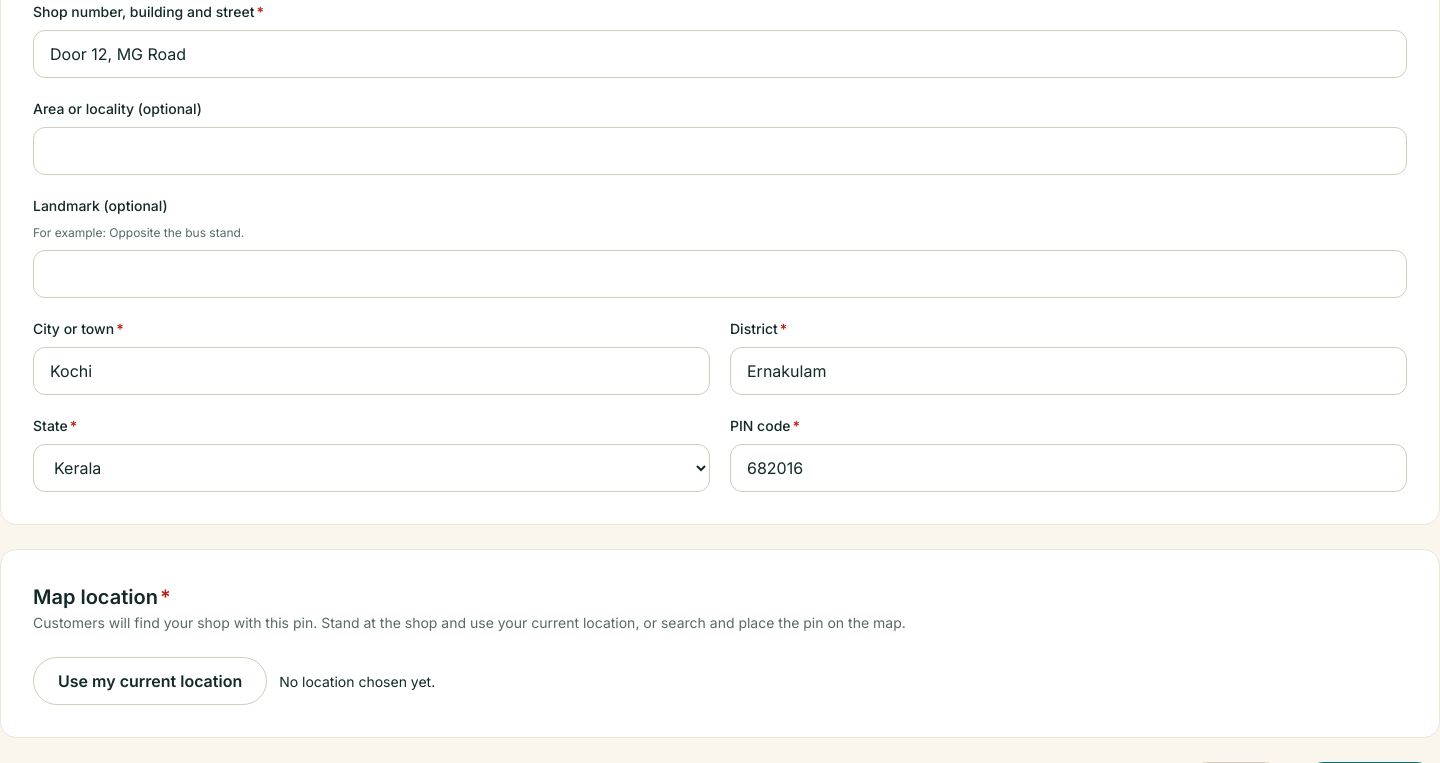
Test: ShopProfileForm › refuses a device location too rough for a shop pin
The image size is (1440, 763).
(page scrolled)
Click the button "Use my current location" at point(150, 681), box x1=33 y1=657 x2=267 y2=705
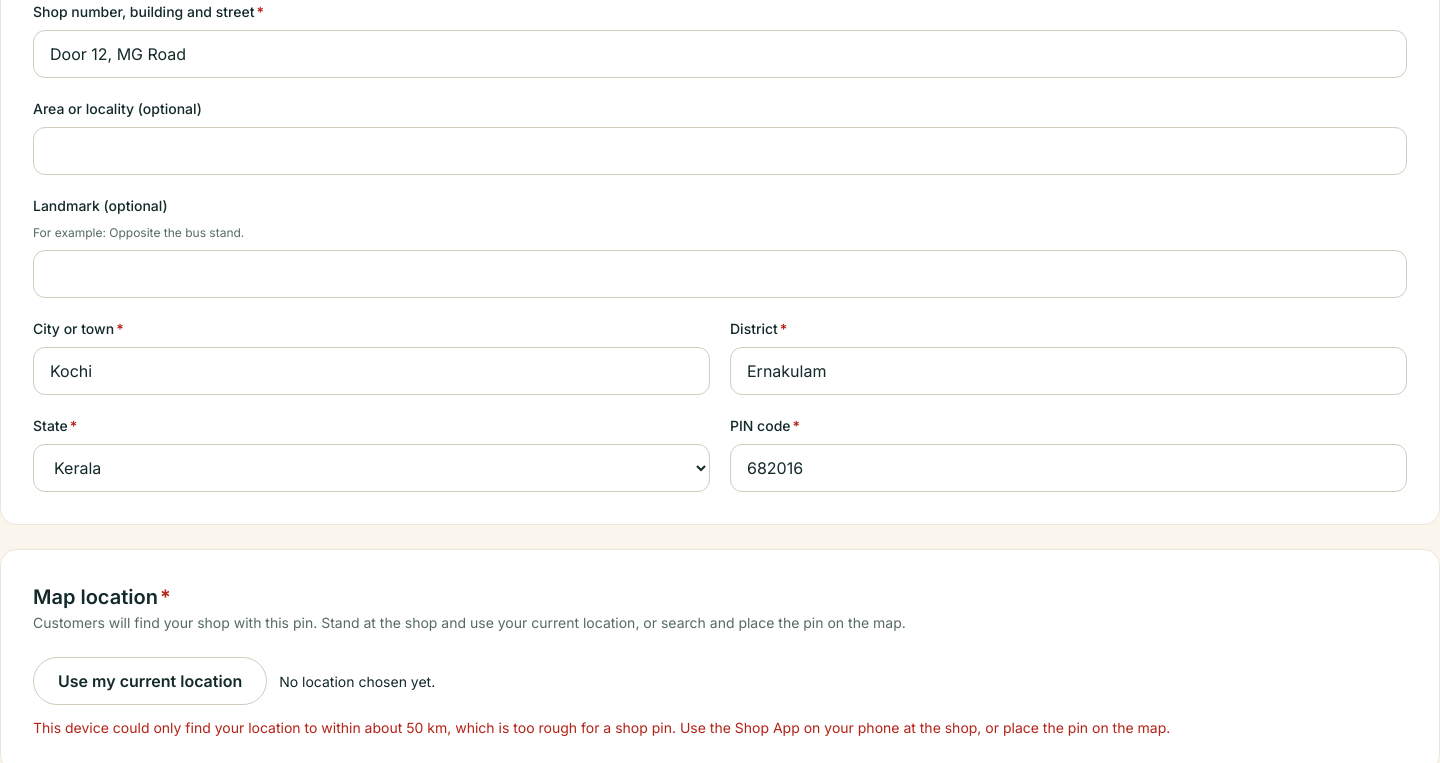
Expected: the text "No location chosen yet." is shown, x1=279 y1=670 x2=435 y2=692
Expected: the message shows "about 50 km", x1=33 y1=719 x2=1170 y2=736
